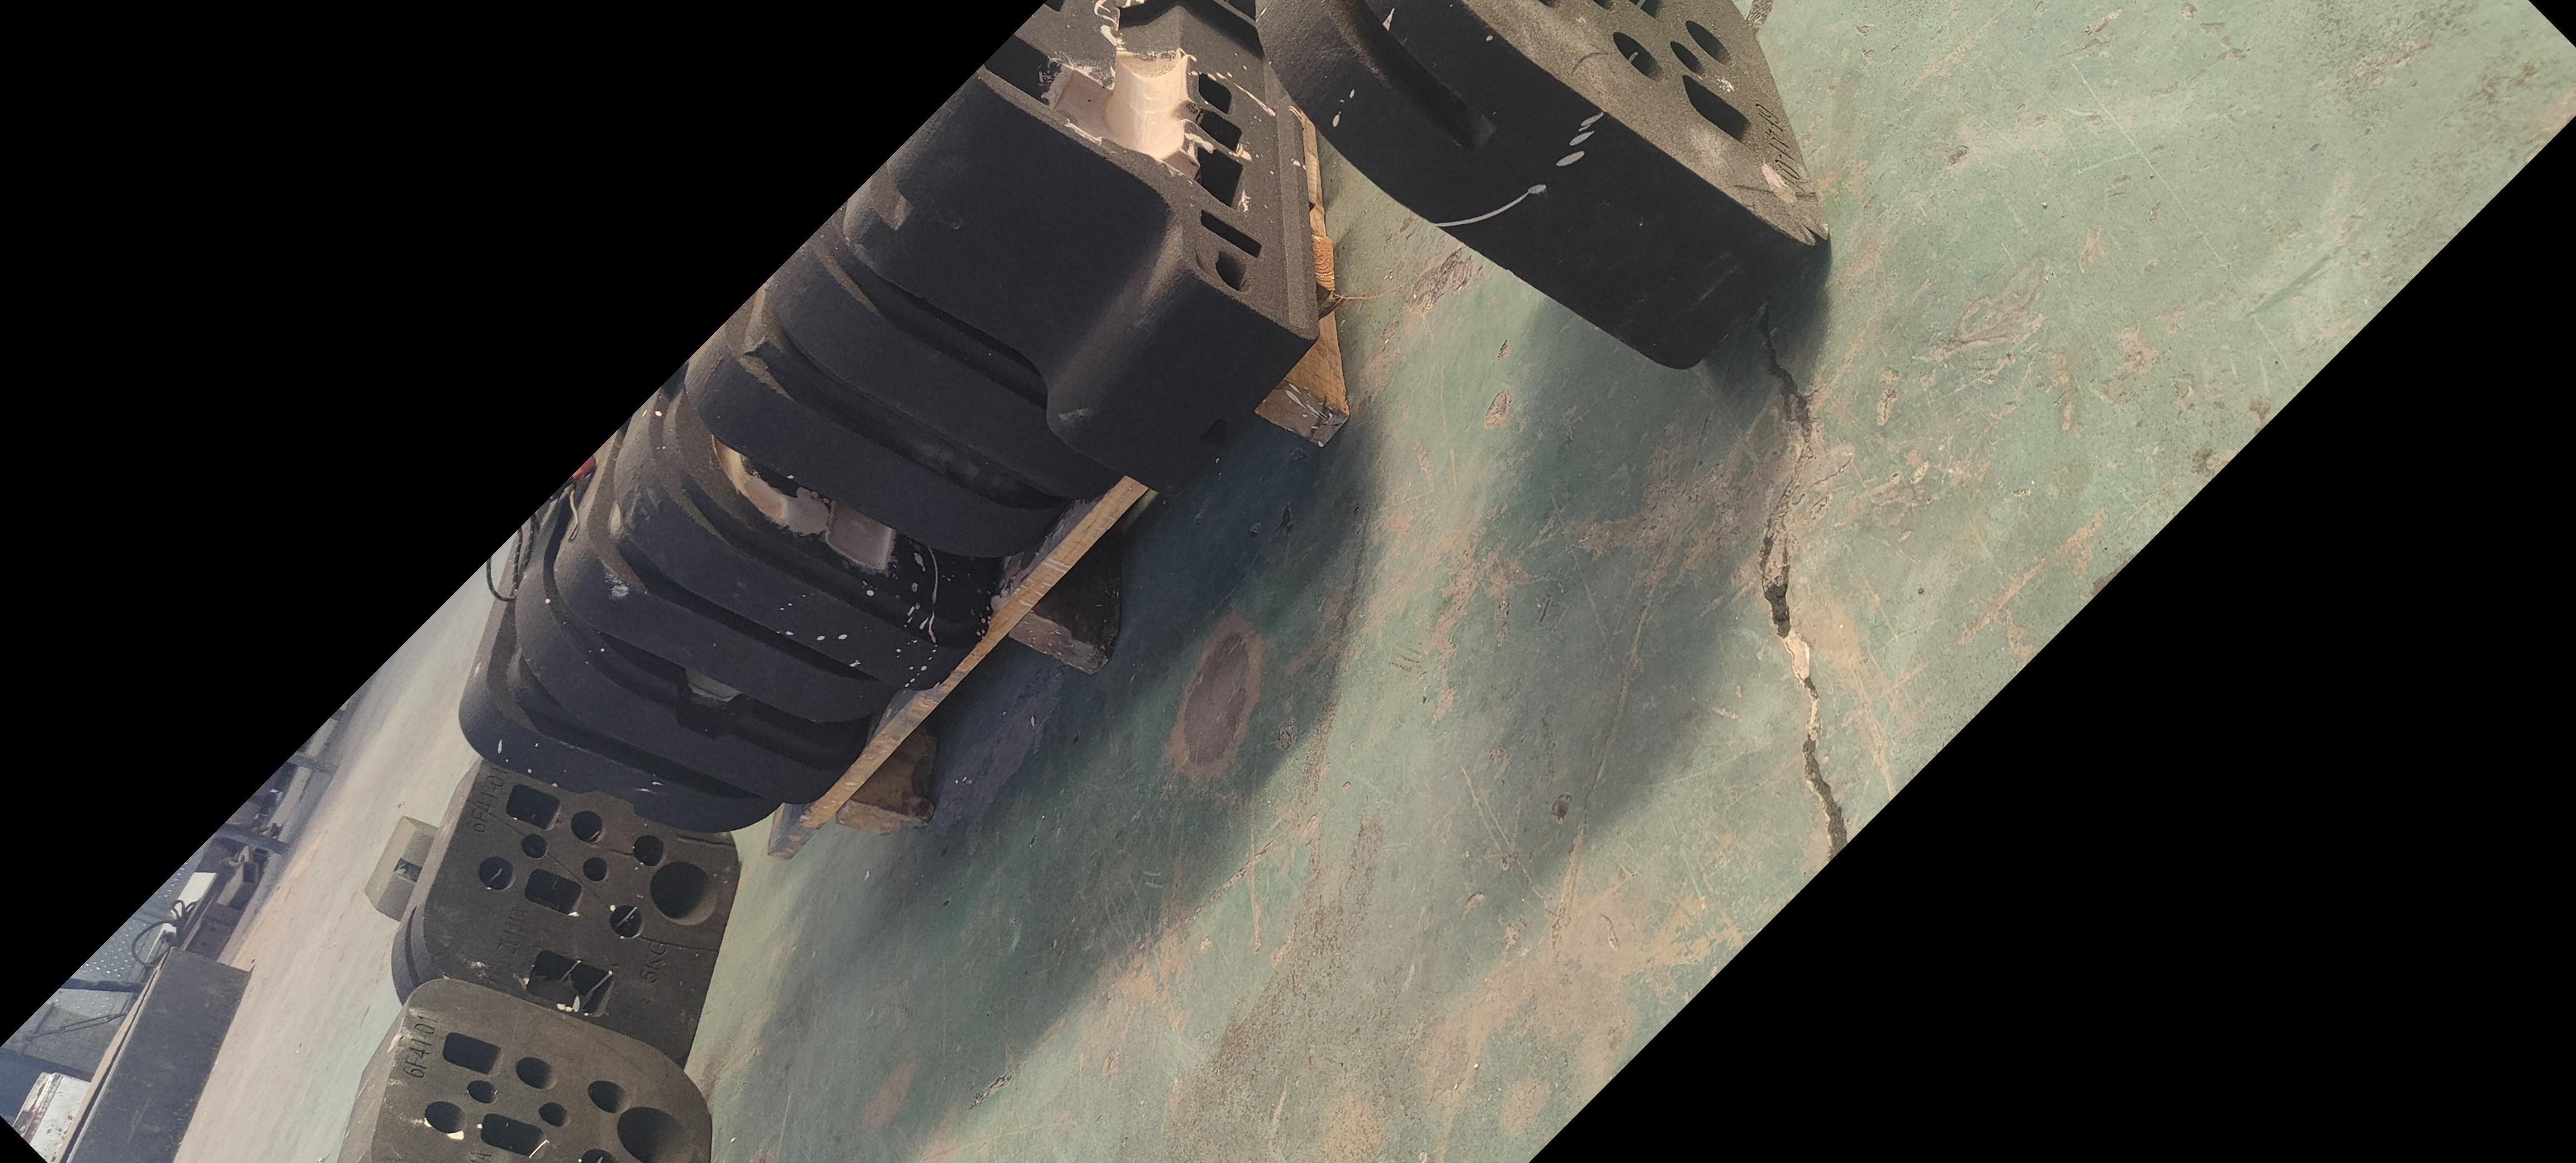pouring hole: (616, 1107, 695, 1163), (649, 862, 718, 925)
